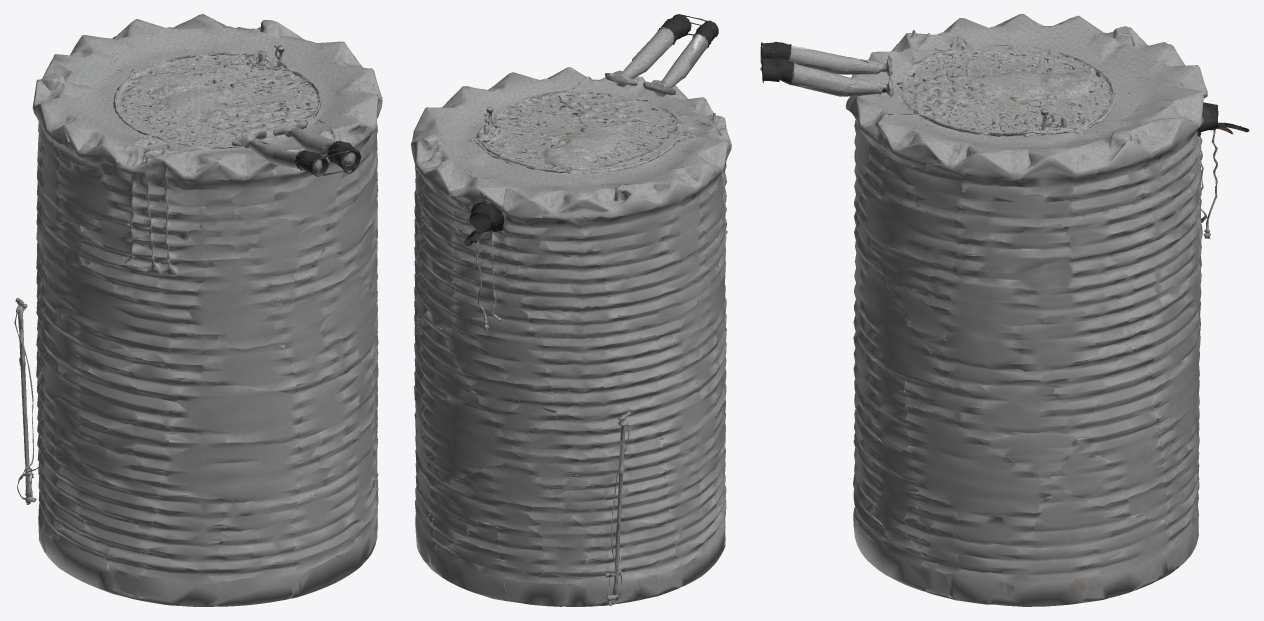
File: tank-mobile.glb
3 renders of one model, left to right at view 1: azimuth 30°, elevation 25°; view 2: azimuth 150°, elevation 25°; view 3: azimuth 270°, elevation 25°, orthographic. The views are drawn at different scales.
Visible parts, largest first — view 1: water_tank; view 2: water_tank; view 3: water_tank.
Part boxes in pixels (left/top/right/bottom): water_tank: left=14, top=14, right=382, bottom=606; water_tank: left=411, top=14, right=731, bottom=606; water_tank: left=760, top=14, right=1249, bottom=606.
Size of the model in its own units: 1.32 by 2 by 1.84.
1 material, 1 textured.
